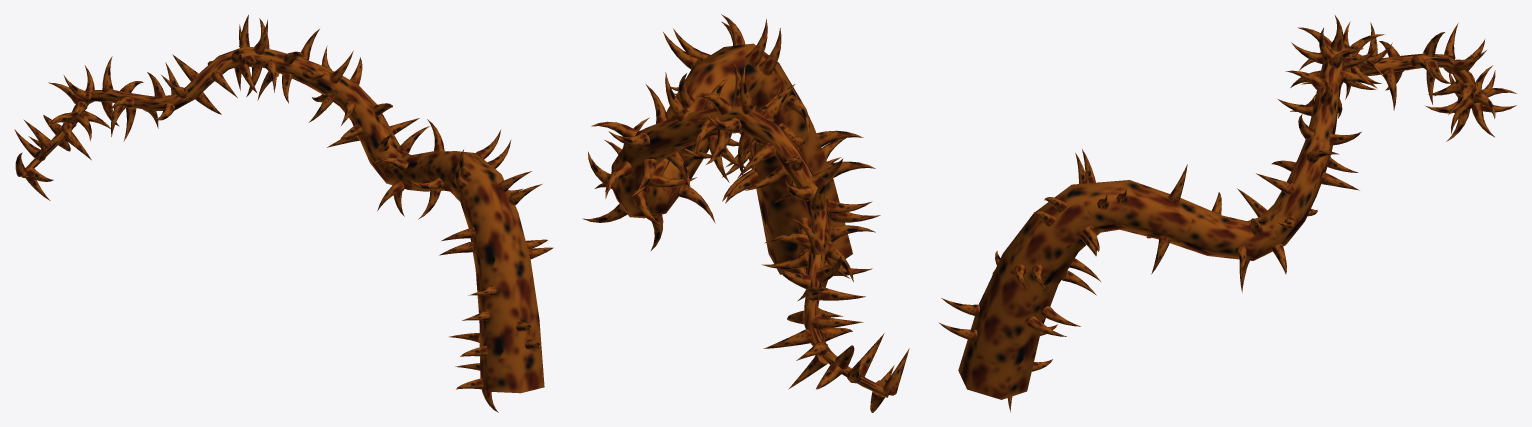
Rendered from thorn01.FBX.
The picture shows the model from 3 angles, left to right: view 1: azimuth 30°, elevation 25°; view 2: azimuth 150°, elevation 25°; view 3: azimuth 270°, elevation 25°; orthographic projection. The views are drawn at different scales.
Parts seen in each view (by area): view 1: Thorn007; view 2: Thorn007; view 3: Thorn007.
Part boxes in pixels (x1,y1,x2,y2): Thorn007: (14, 14, 553, 412); Thorn007: (582, 14, 909, 412); Thorn007: (938, 15, 1516, 412).
Bounding box in the file's own units: 39.48 × 34.61 × 52.76.
